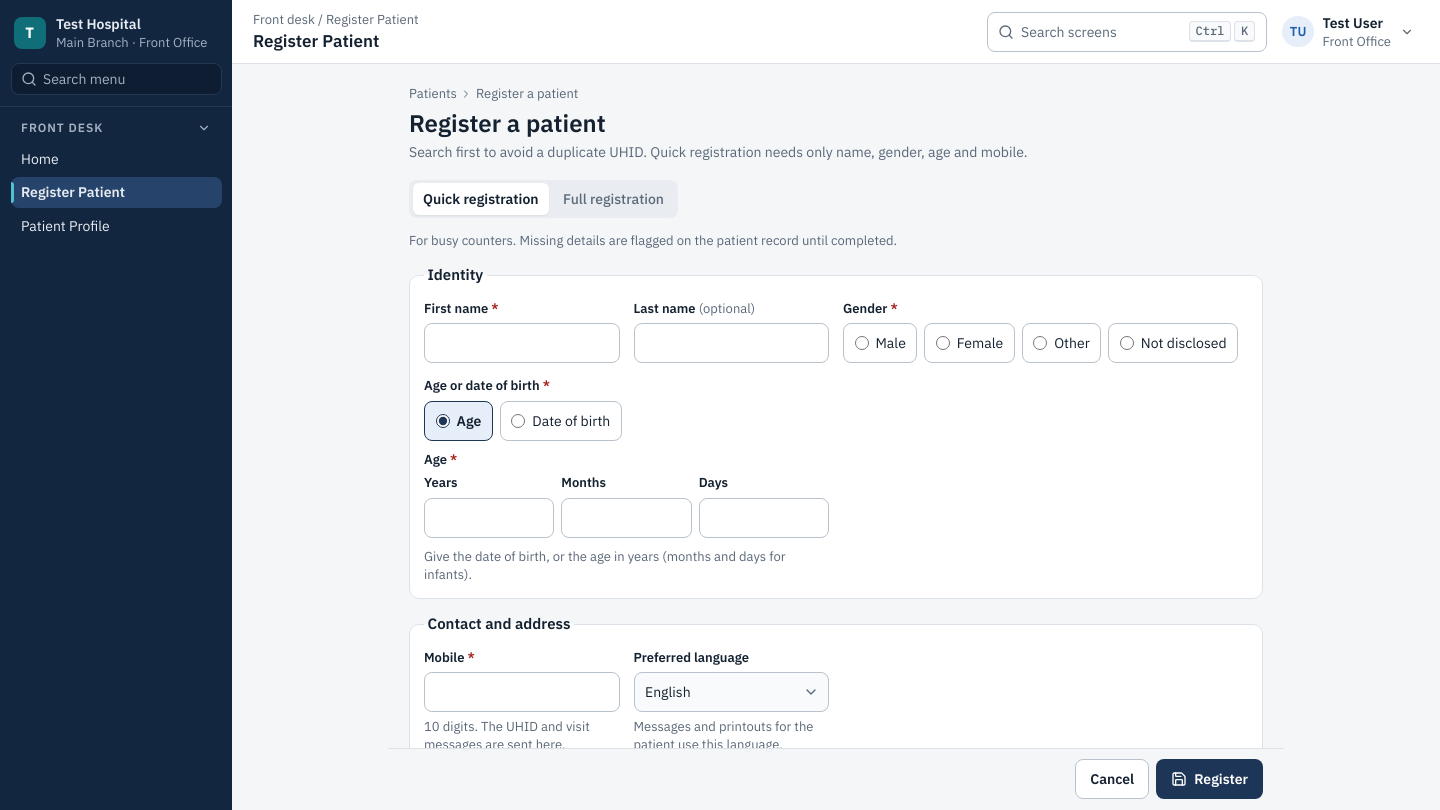
Test case: Registration › validates with the shared schema, then registers (201) and opens the profile
This screenshot has width=1440, height=810.
Click the button "Register": (1210, 780) [1156, 760, 1263, 800]
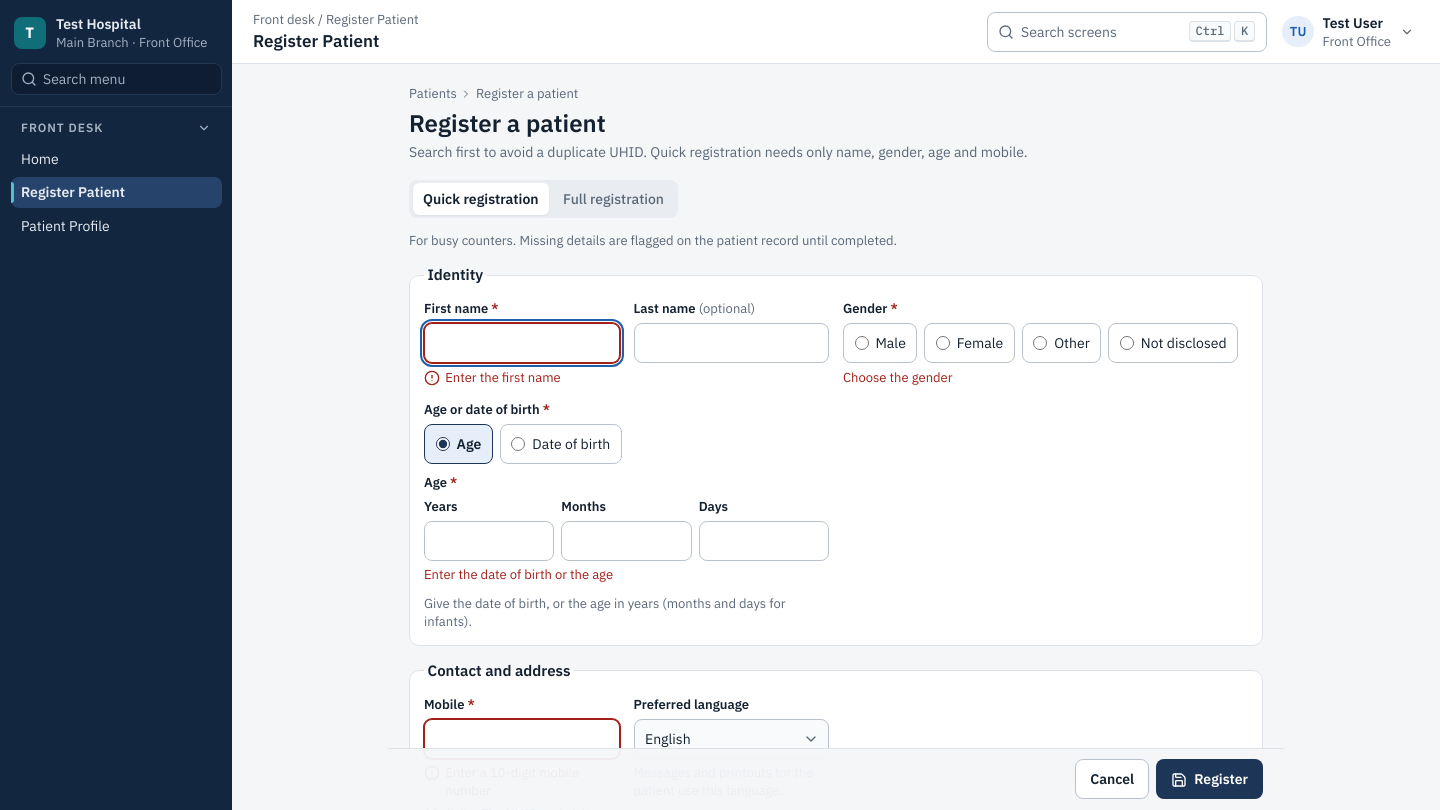
Result: the text "Enter the first name" is shown at [445, 368, 561, 386]
Result: the text "Choose the gender" is shown at [843, 368, 952, 386]
In the field labelled "First name *": (522, 343) [424, 323, 620, 363], type "Ravi"
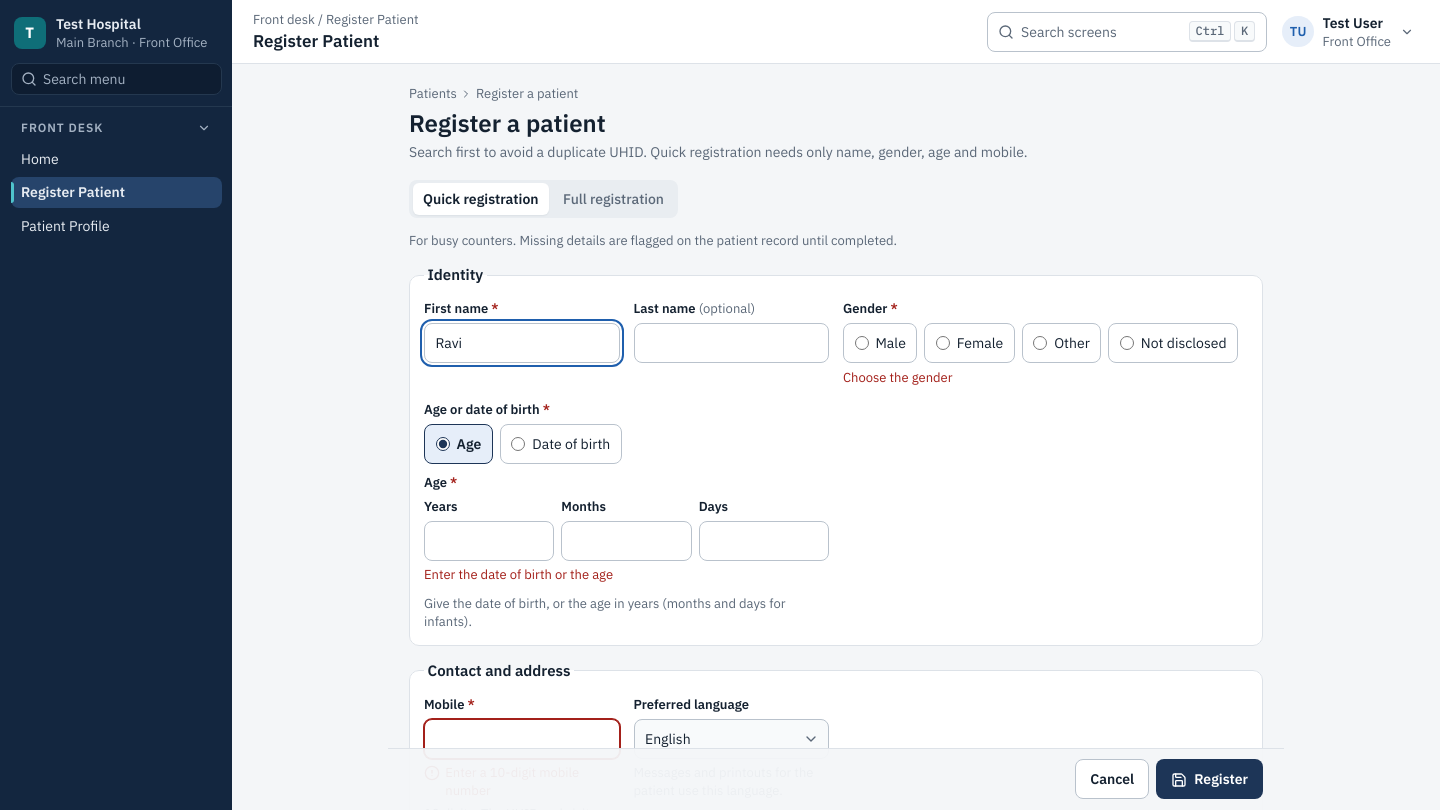
Click the radio button labelled "Male": (862, 343) [854, 336, 868, 350]
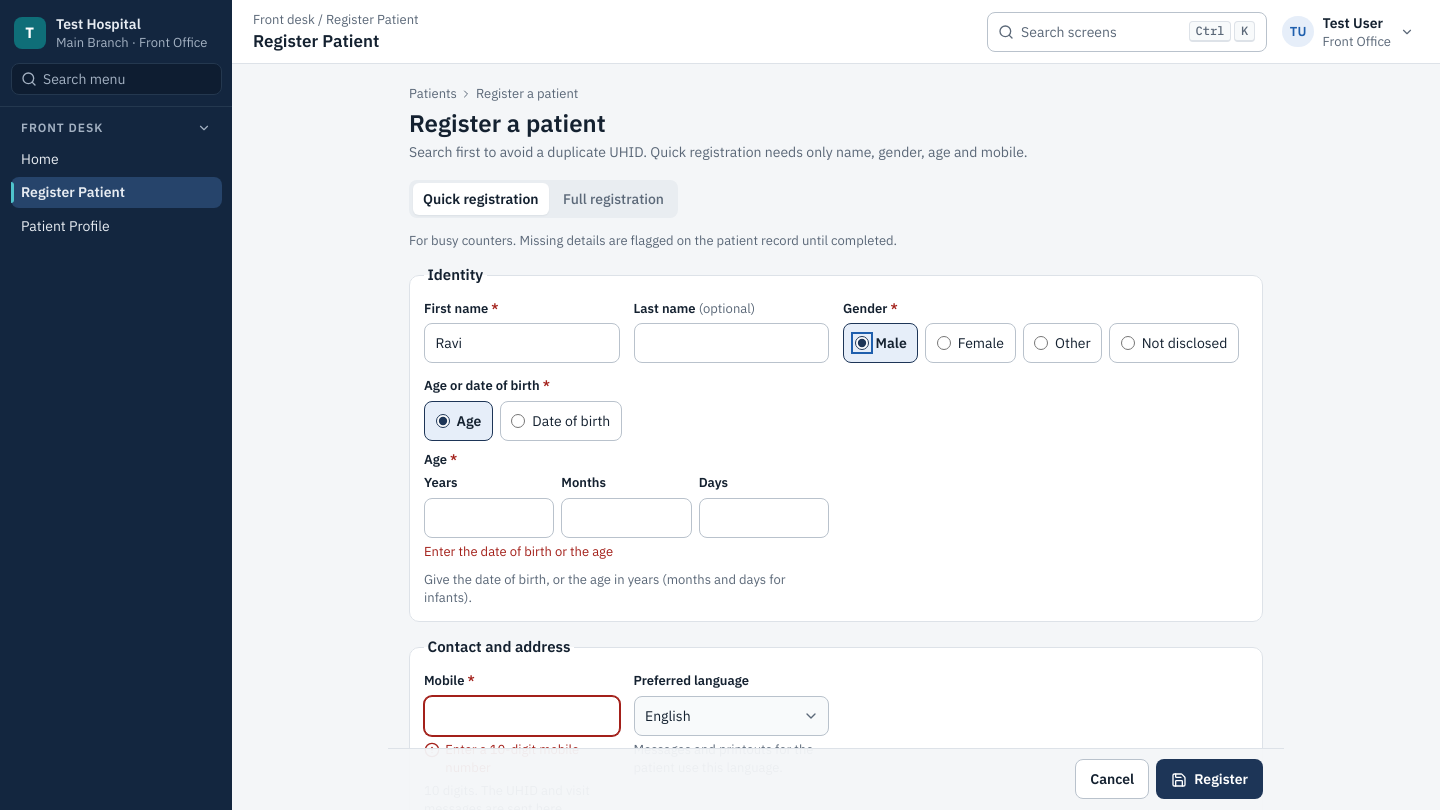
In the number field labelled "Years": (489, 518) [424, 498, 554, 538], type "64"
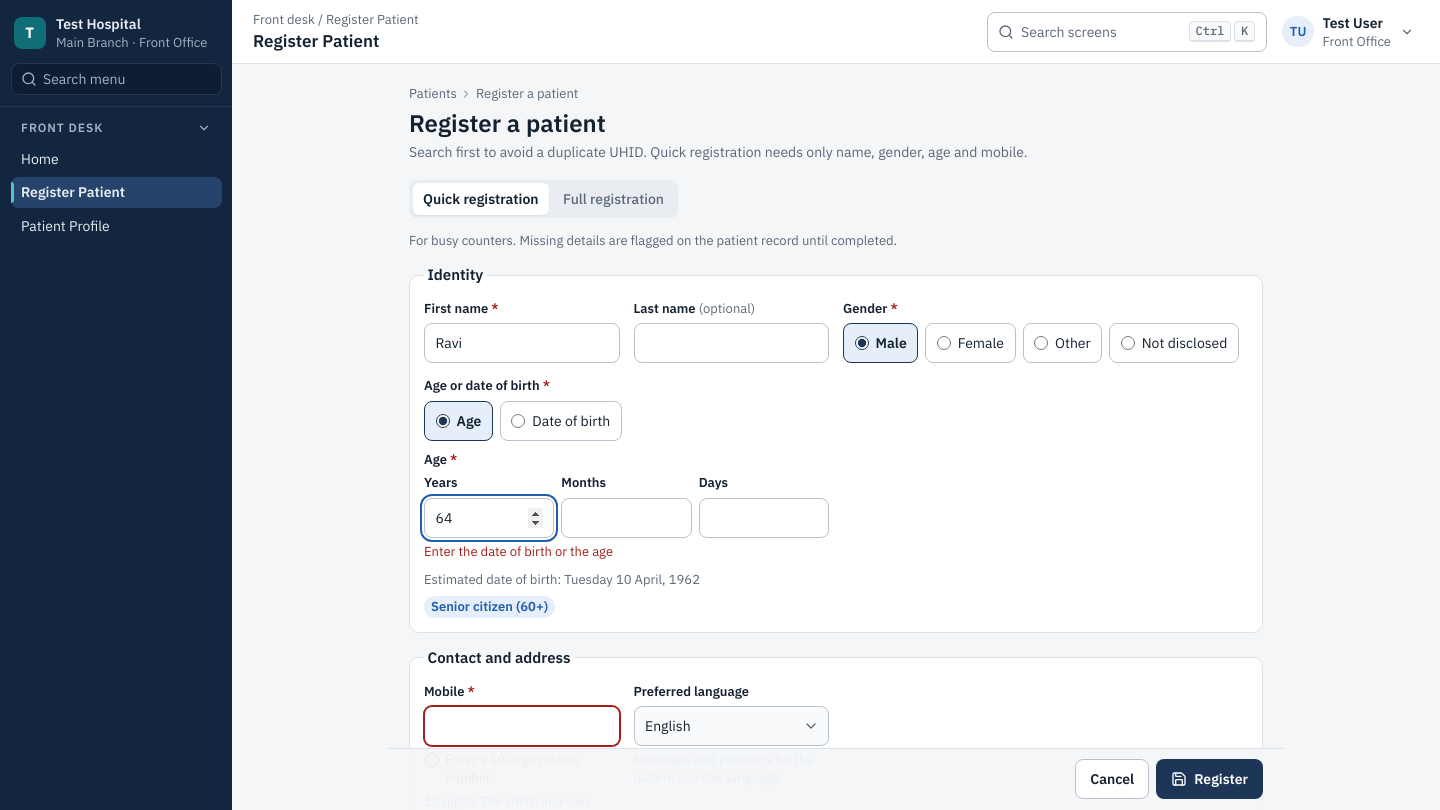
Result: the text "Senior citizen (60+)" is shown at [431, 598, 548, 616]
In the field labelled "Mobile *": (522, 726) [424, 706, 620, 746], type "9876543210"
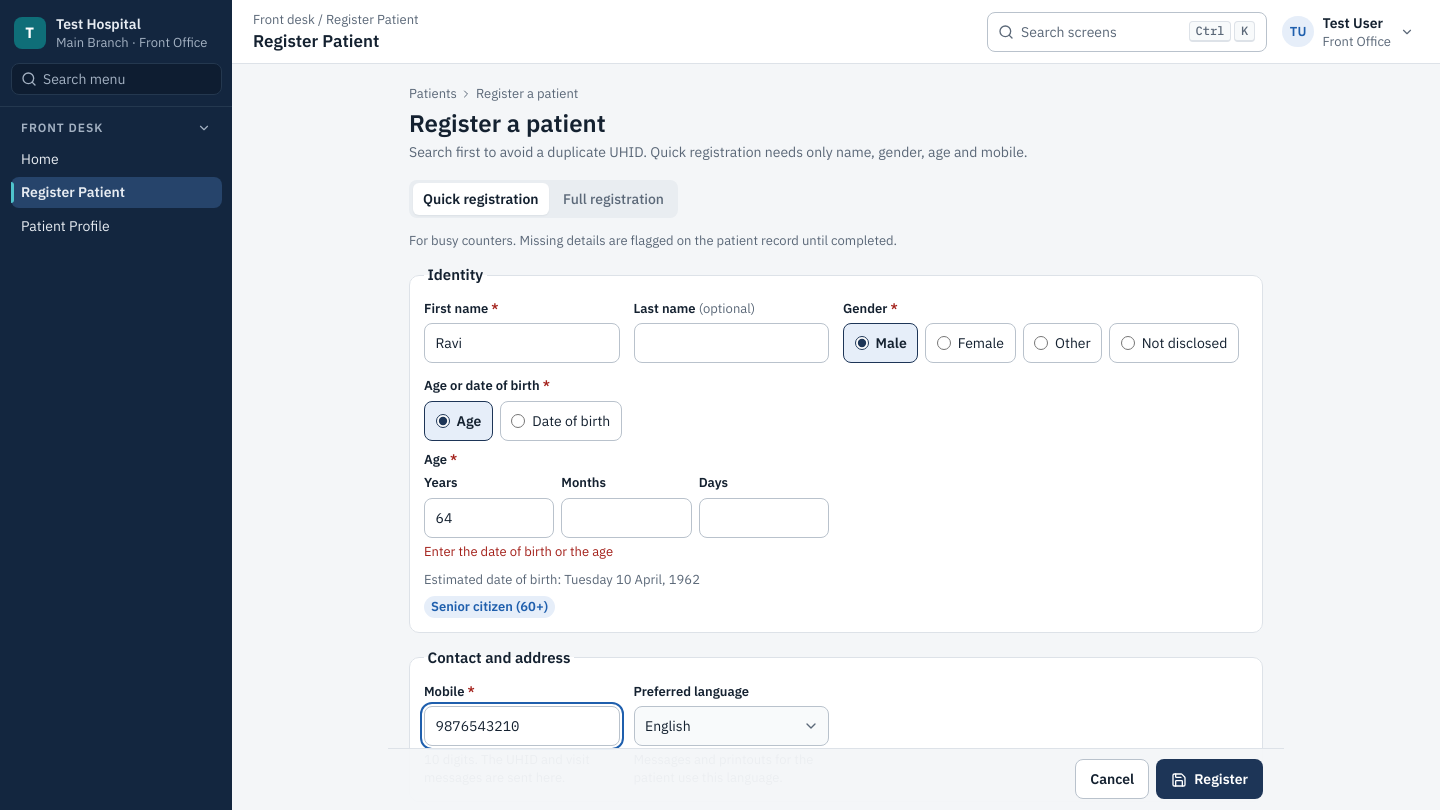
Click the button "Register": (1210, 780) [1156, 760, 1263, 800]
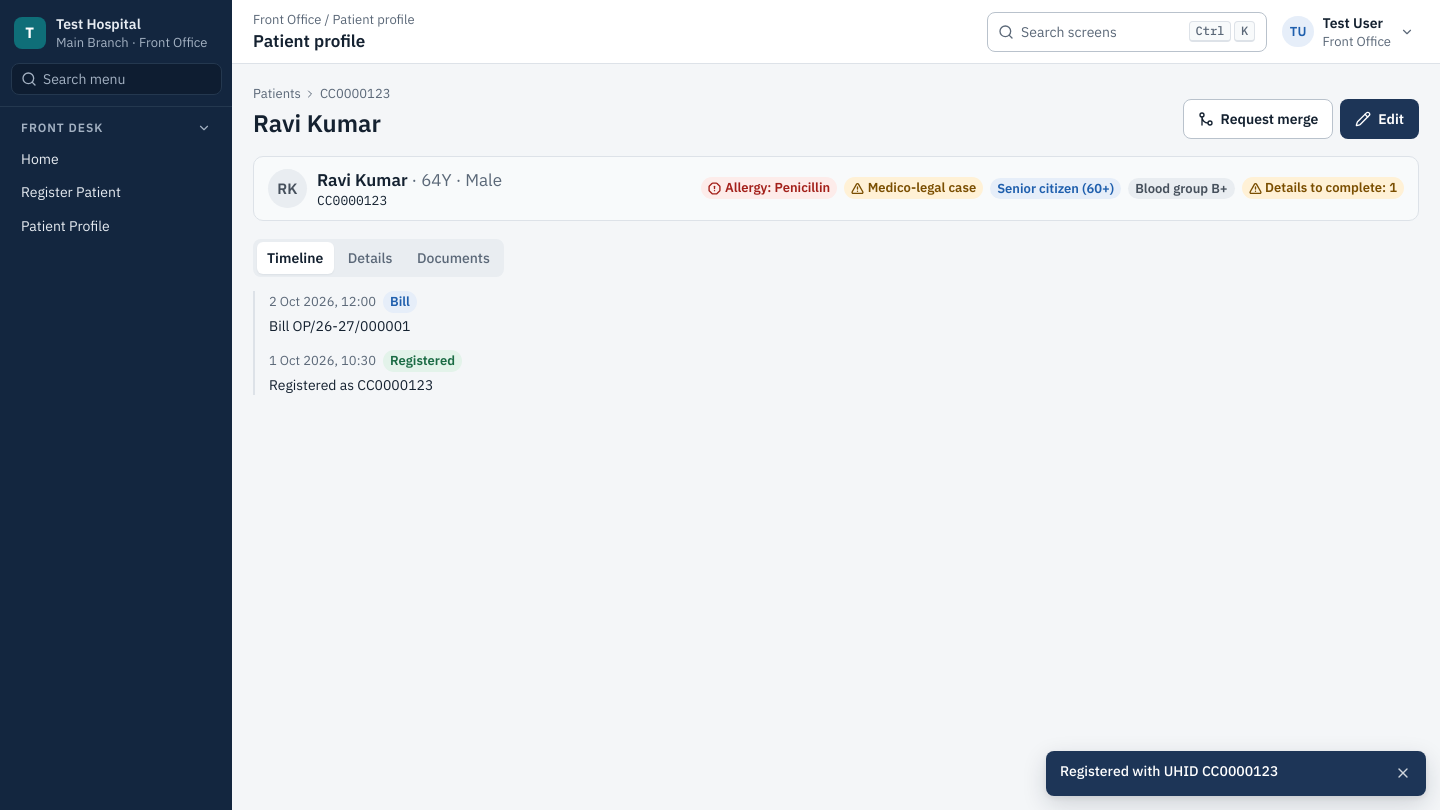
Result: the text "Registered with UHID CC0000123" is shown at [1060, 762, 1278, 780]
